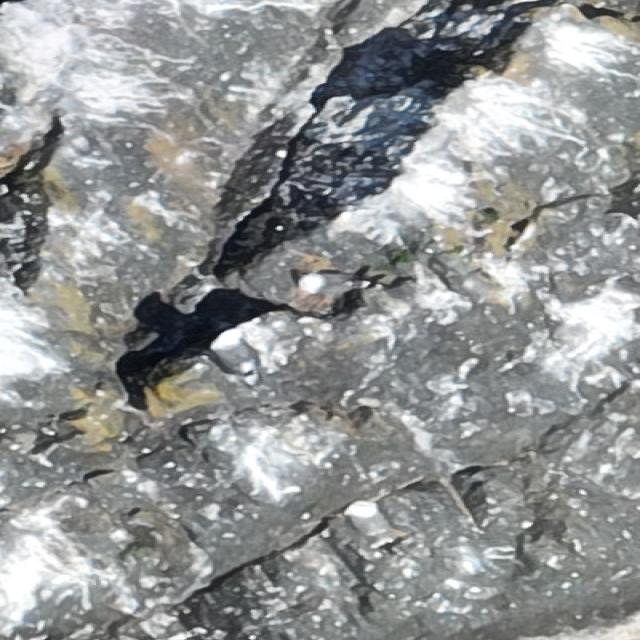umineko: (294, 272, 375, 294)
